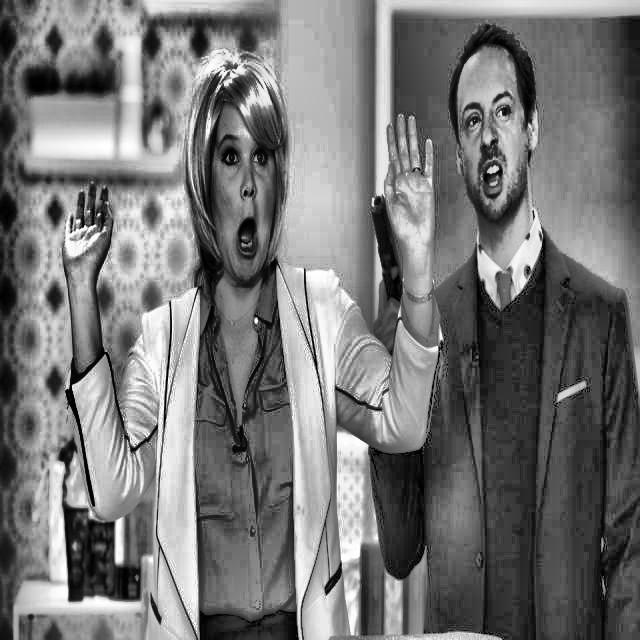pistol: (364, 181, 409, 361)
